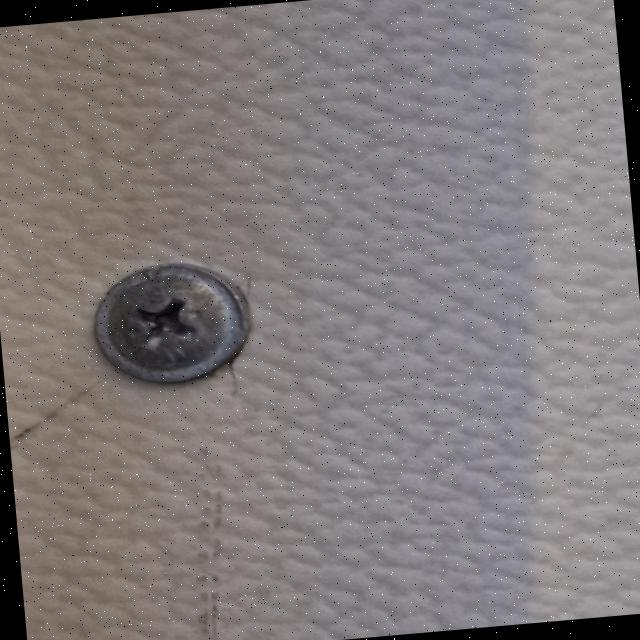Phillips: (82, 249, 258, 407)
